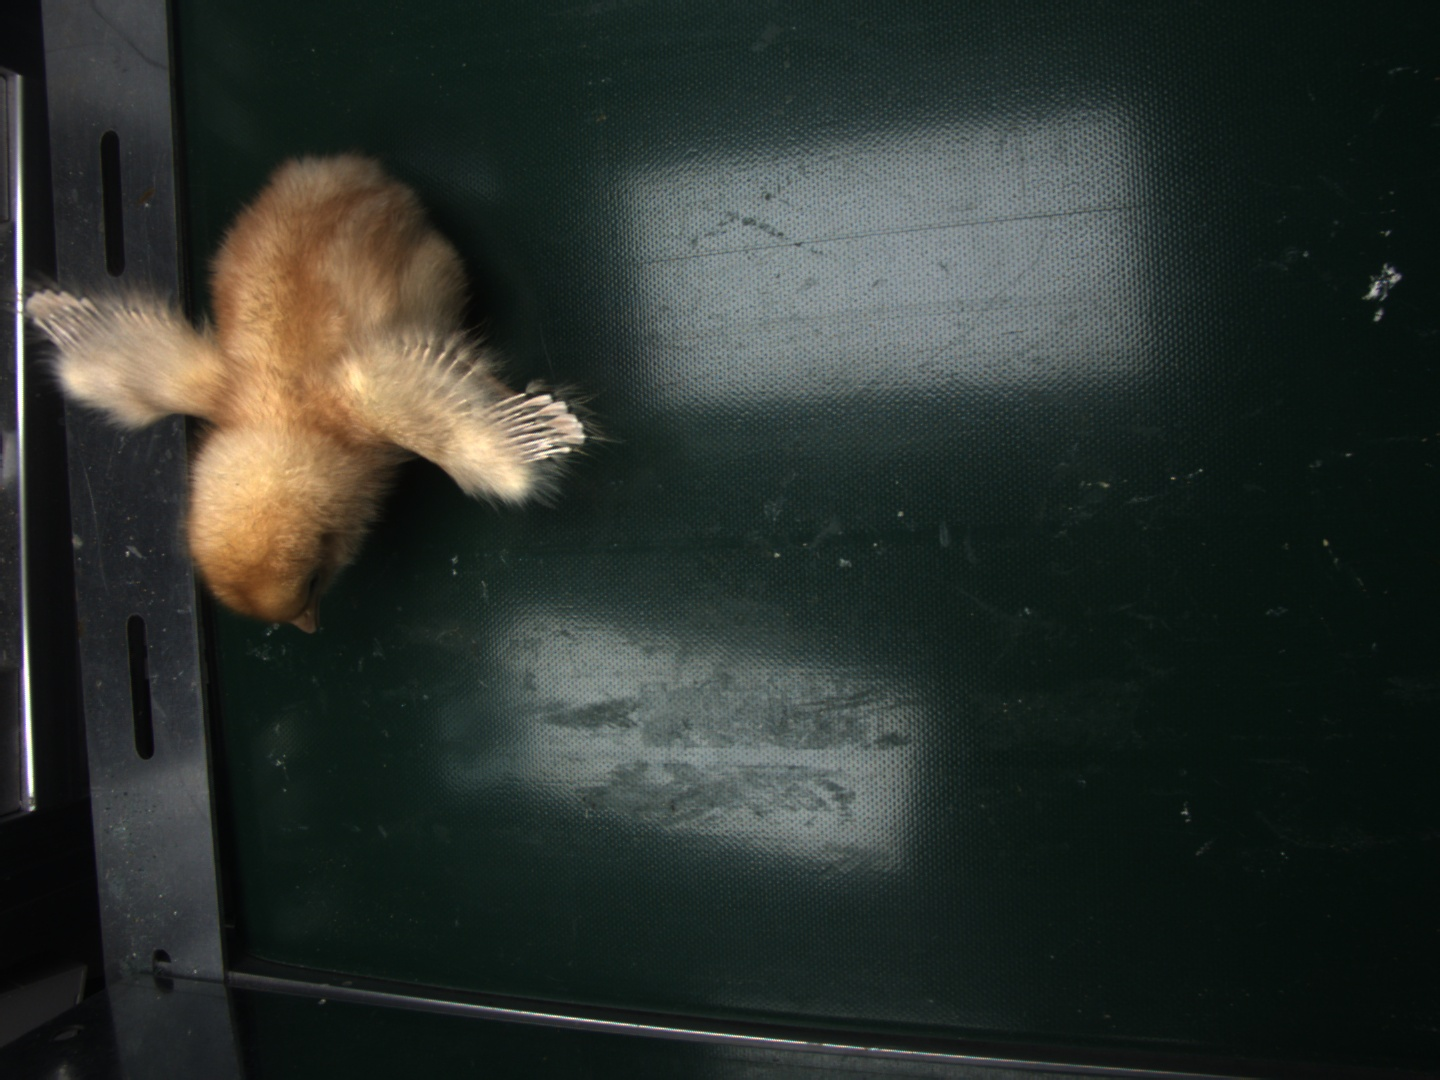female: (494, 391, 586, 459)
